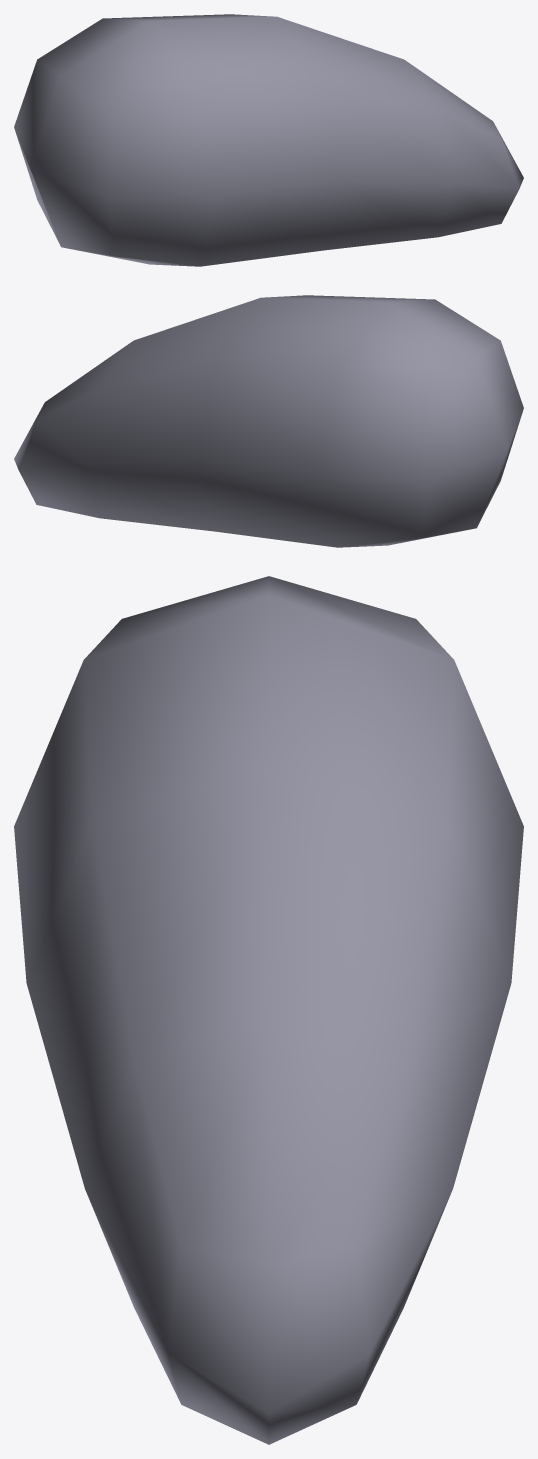
Rendered from rock0.fbx.
3 renders of one model, top to bottom at view 1: azimuth 30°, elevation 25°; view 2: azimuth 150°, elevation 25°; view 3: azimuth 270°, elevation 25°, orthographic. The views are drawn at different scales.
Parts seen in each view (by area): view 1: Rock; view 2: Rock; view 3: Rock.
Boxes of the visible parts, x1,y1,x2,y2 form: Rock: [14, 14, 523, 266]; Rock: [14, 295, 523, 547]; Rock: [14, 576, 523, 1444].
Bounding box in the file's own units: 368 × 199 × 173.
